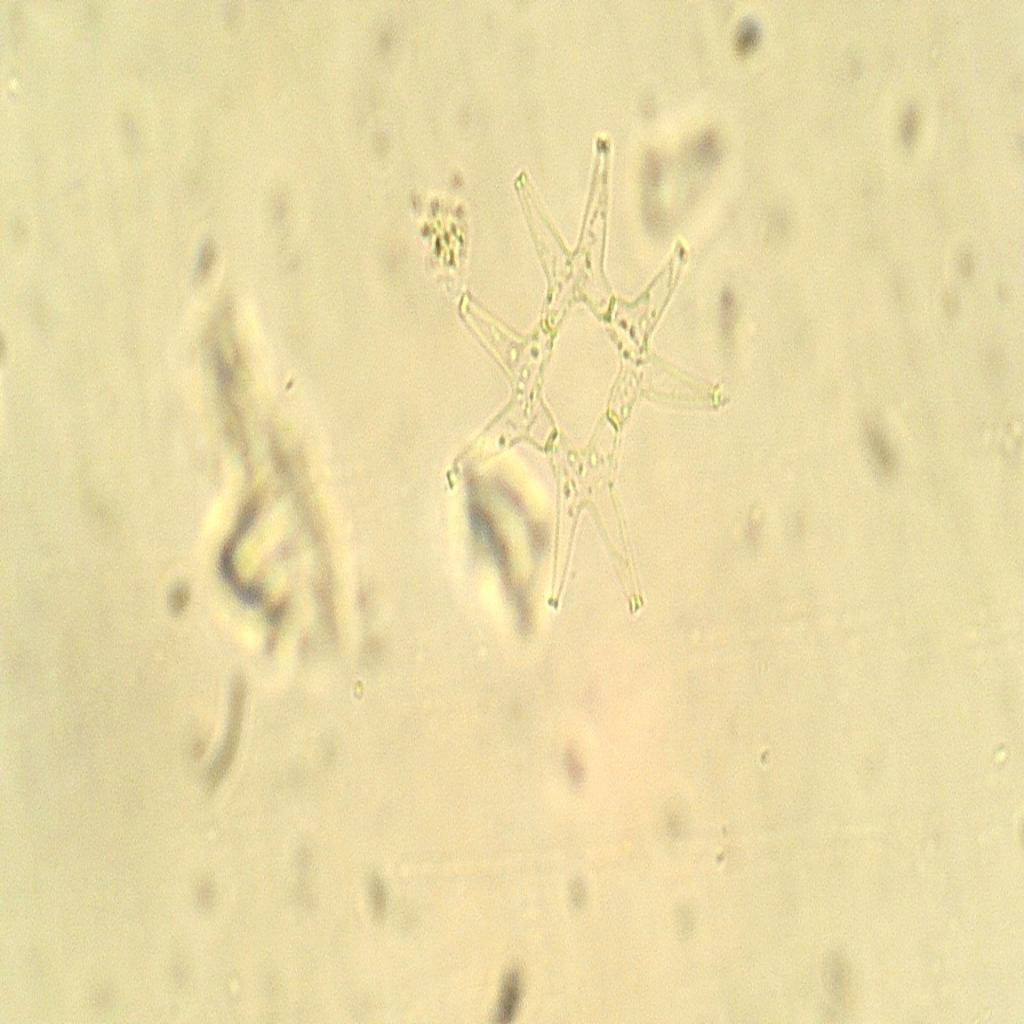Pediastrum_75TH: (414, 115, 750, 629)
